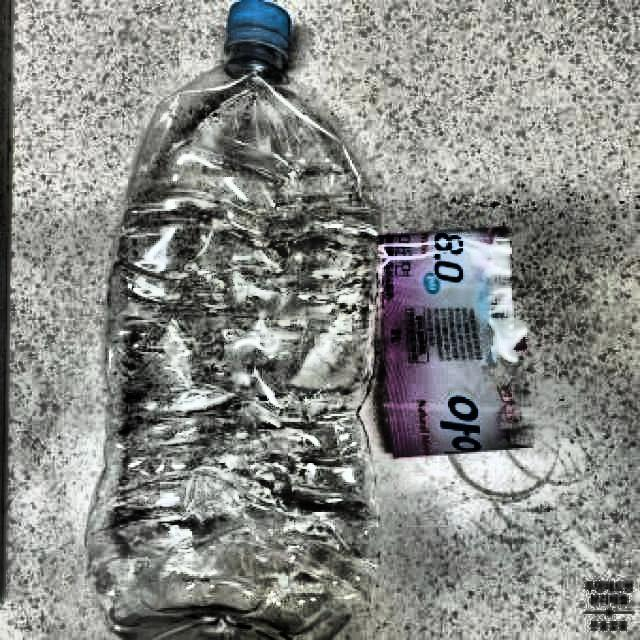plastic bottle: (87, 0, 378, 640)
